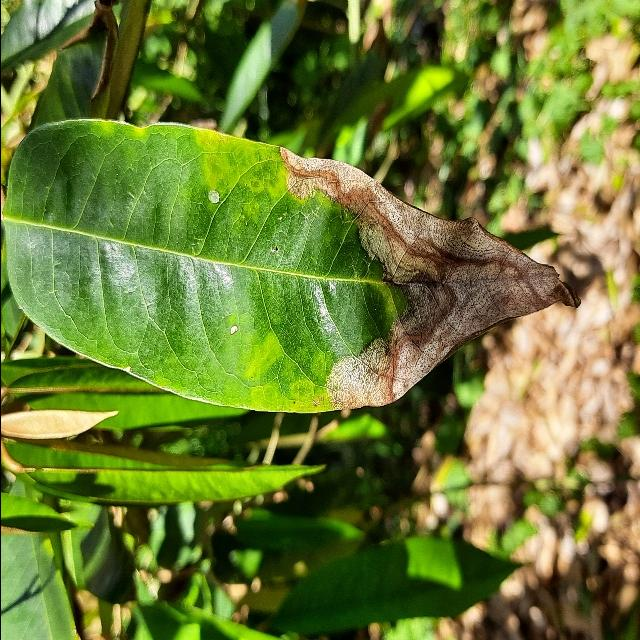Leaf Blight: (0, 113, 584, 418)
